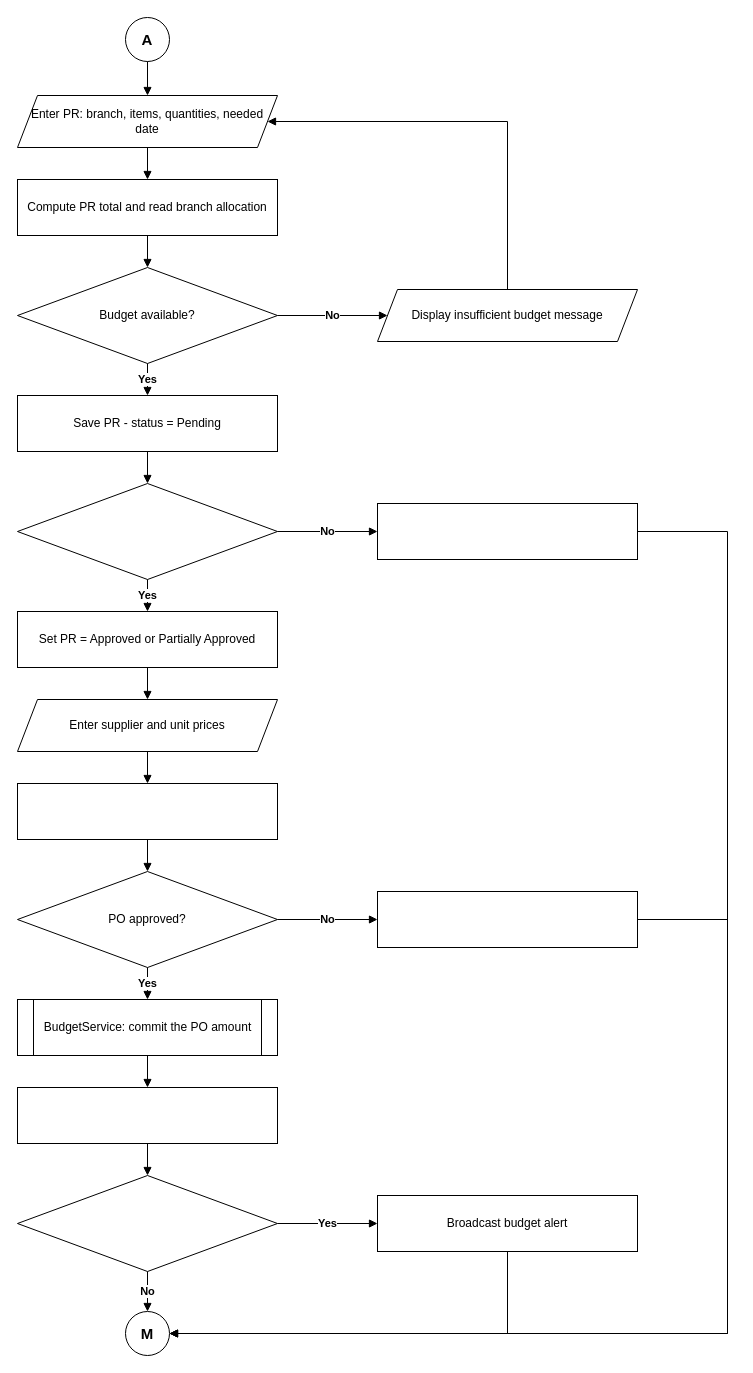
Some shapes in this 753 by 1373 pixel diagram are drawn without their labels. Each missing label, with the box of its shape:
Create PO linked to the PR - status = Pending: (16, 782, 278, 840)
Manager approves?: (16, 482, 278, 580)
Set PO = Rejected; release committed budget: (376, 890, 638, 948)
Set PR status = Rejected: (376, 502, 638, 560)
Utilisation reaches 80%?: (16, 1174, 278, 1272)
Write budget transaction; set PO = Approved: (16, 1086, 278, 1144)
